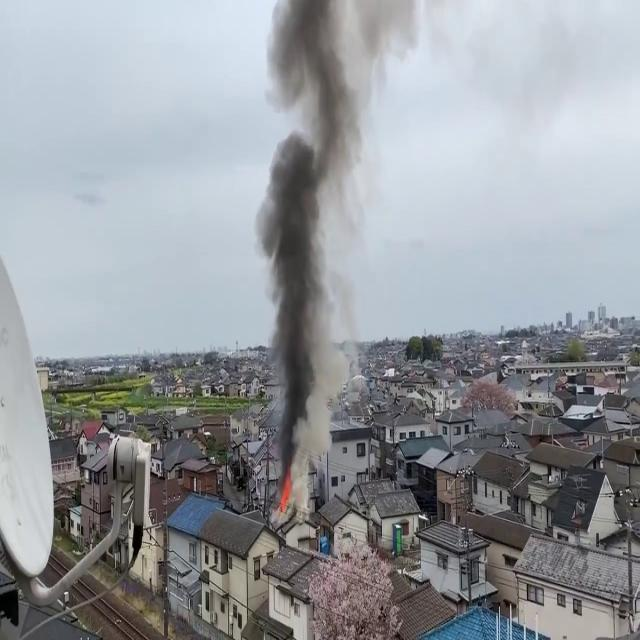Fire: (277, 472, 293, 516)
Smoke: (254, 0, 380, 480)
